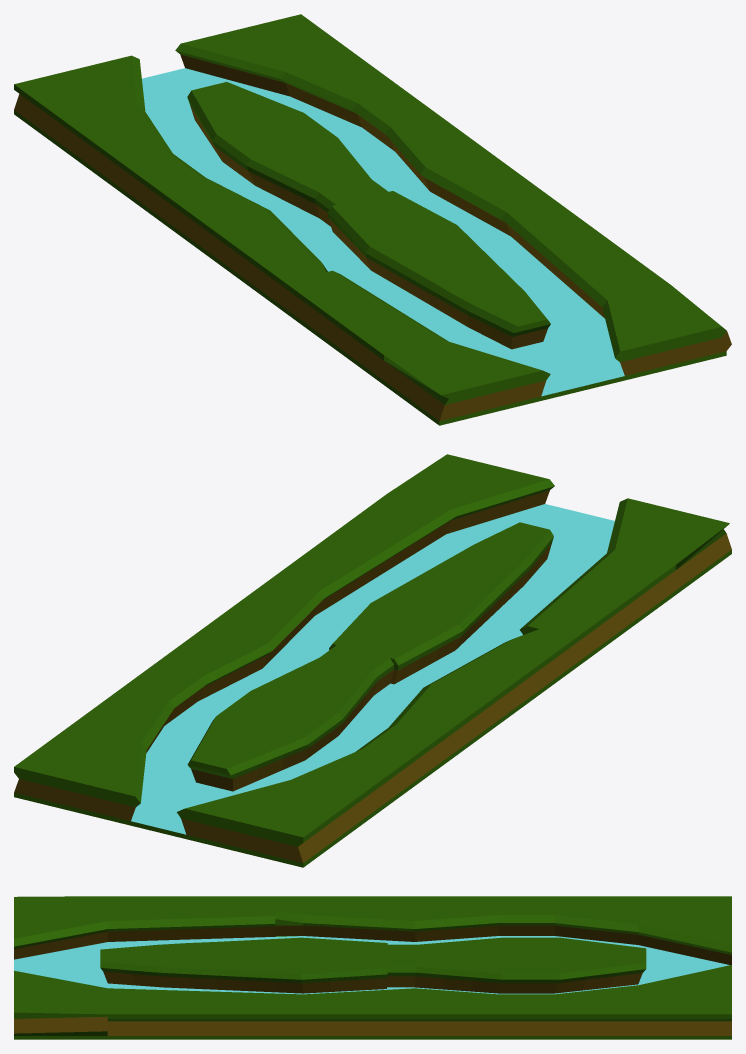
File: Lowpoly_Map_Jungle.fbx
The picture shows the model from 3 angles, top to bottom: view 1: azimuth 30°, elevation 25°; view 2: azimuth 150°, elevation 25°; view 3: azimuth 270°, elevation 25°; orthographic projection. The views are drawn at different scales.
Visible parts, largest first — view 1: Cube; view 2: Cube; view 3: Cube.
Boxes of the visible parts, box(x1,y1,x2,y2) form: Cube: box(14, 14, 731, 425); Cube: box(14, 454, 731, 867); Cube: box(14, 896, 731, 1039).
Size of the model in its own units: 6436 by 632 by 16214.
